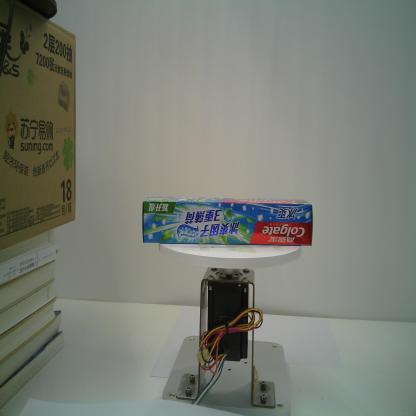Personal Hygiene: (141, 195, 314, 249)
